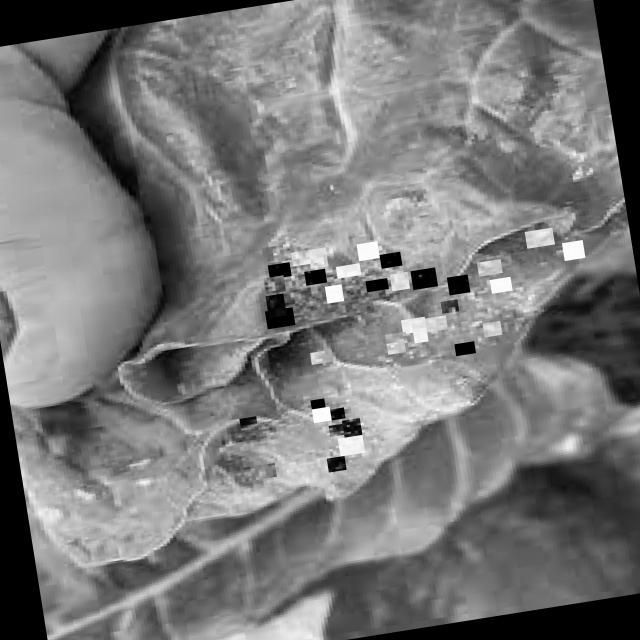aphid: (264, 308, 294, 330), (410, 268, 438, 290), (336, 435, 364, 457), (524, 228, 554, 248), (264, 294, 286, 318), (446, 274, 470, 296), (561, 240, 585, 261), (476, 260, 502, 278), (400, 316, 426, 334), (307, 247, 328, 269), (356, 241, 379, 261), (261, 245, 284, 264), (378, 252, 402, 270), (334, 263, 360, 279), (267, 263, 291, 280), (389, 272, 409, 292), (342, 418, 362, 438), (263, 276, 285, 294), (489, 277, 512, 294), (460, 319, 483, 336), (253, 463, 276, 480), (324, 284, 343, 304), (304, 269, 326, 286), (290, 250, 313, 266), (424, 316, 447, 332), (326, 456, 346, 474), (309, 350, 333, 365), (482, 321, 502, 338), (311, 407, 331, 424), (365, 278, 388, 292), (384, 332, 406, 346), (454, 342, 476, 356), (328, 423, 350, 437), (238, 416, 258, 431), (439, 299, 458, 314), (386, 341, 405, 355), (412, 328, 428, 344), (326, 408, 344, 422), (310, 398, 326, 412)
